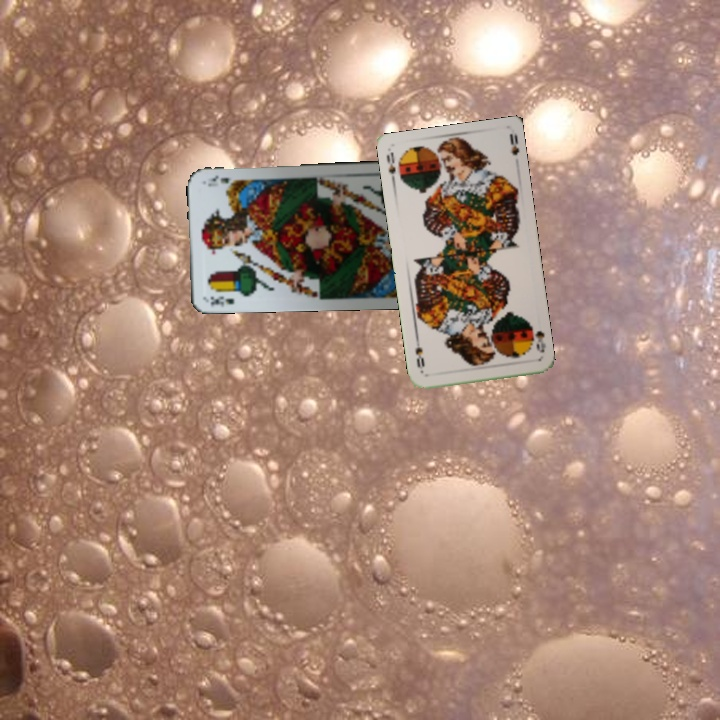EK: (207, 292, 236, 309)
SO: (383, 147, 398, 188), (531, 327, 548, 355)
